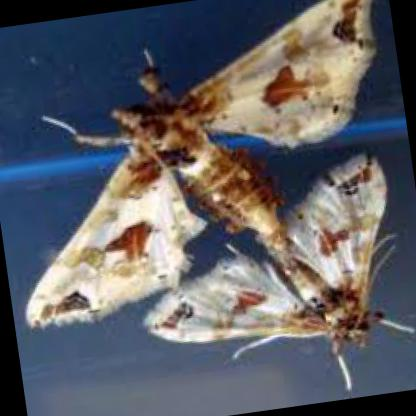leucinodes: (27, 0, 376, 326), (147, 157, 386, 343)
